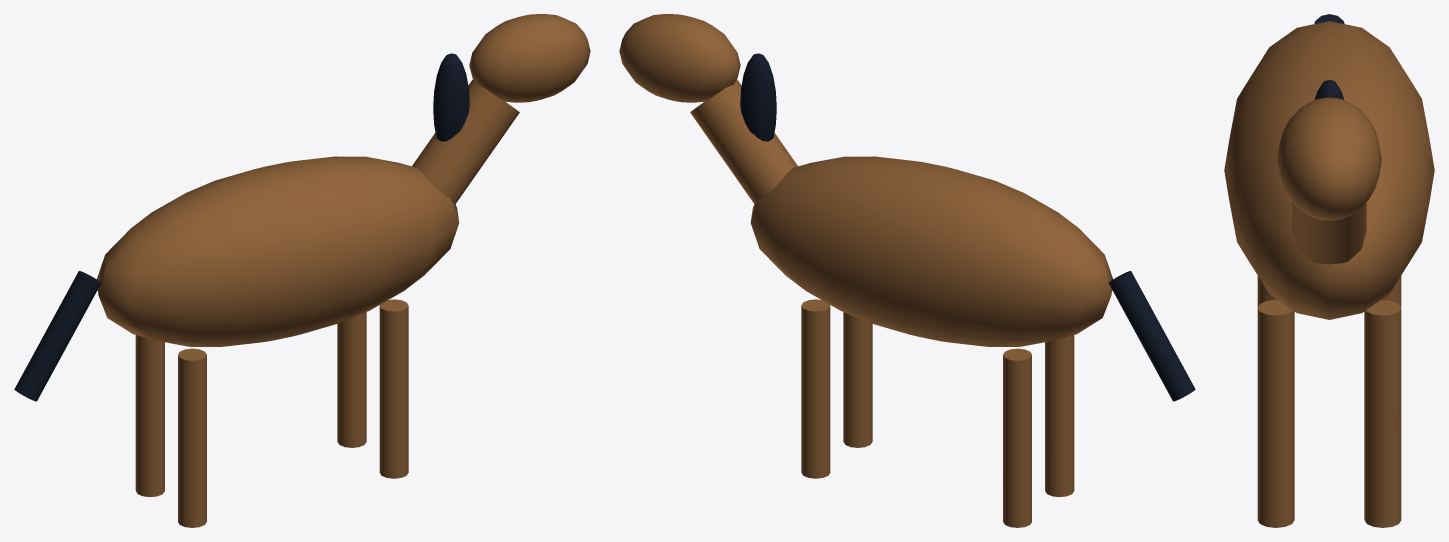
The picture shows the model from 3 angles, left to right: view 1: azimuth 30°, elevation 25°; view 2: azimuth 150°, elevation 25°; view 3: azimuth 270°, elevation 25°; orthographic projection. The views are drawn at different scales.
Parts seen in each view (by area): view 1: horse-standing; view 2: horse-standing; view 3: horse-standing.
Boxes of the visible parts, x1,y1,x2,y2 form: horse-standing: (14, 14, 590, 527); horse-standing: (619, 14, 1195, 527); horse-standing: (1224, 14, 1434, 527).
Bounding box in the file's own units: 2.04 × 1.37 × 0.512.
